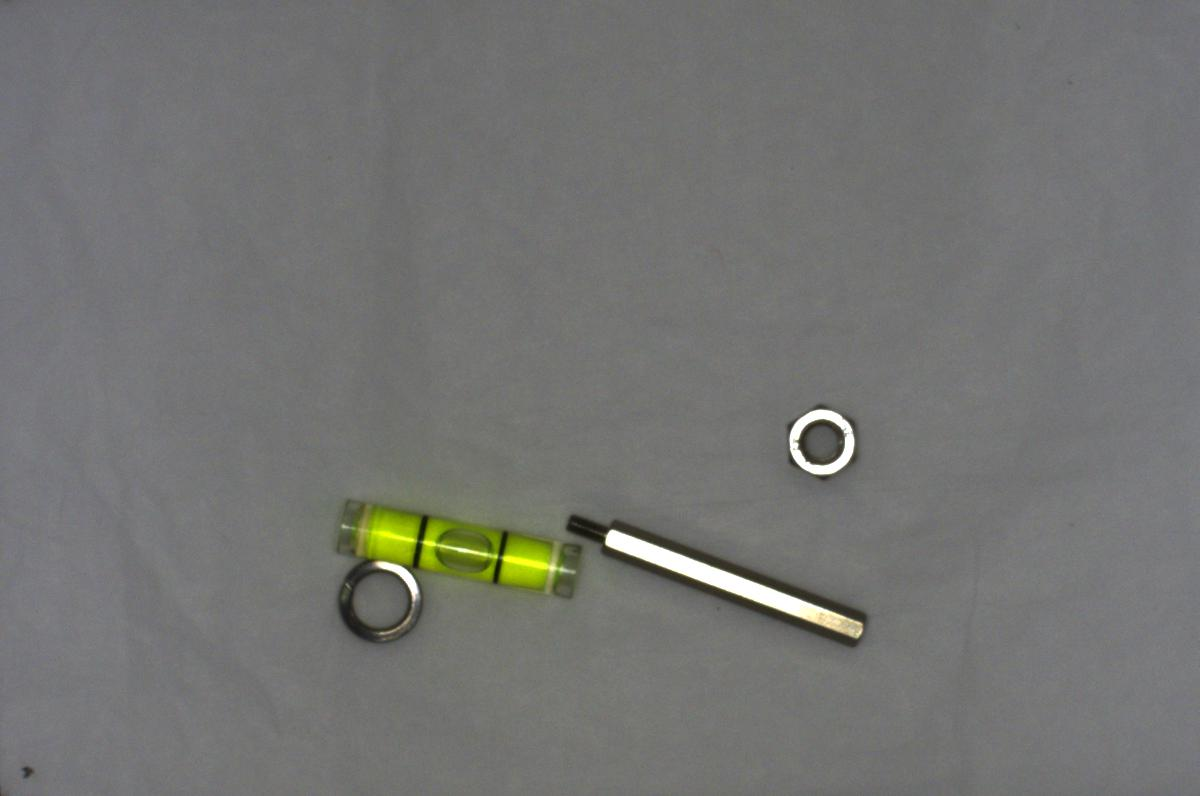Hexagon nut: (778, 395, 867, 486)
Hexagonal steel column: (559, 512, 878, 654)
Horizontal bubble: (320, 486, 579, 596)
Spring washer: (322, 555, 430, 648)
